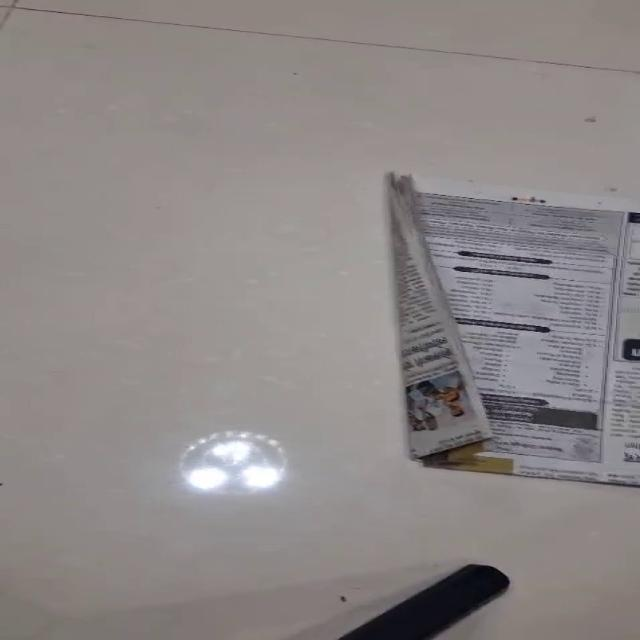paper: (387, 172, 639, 486)
